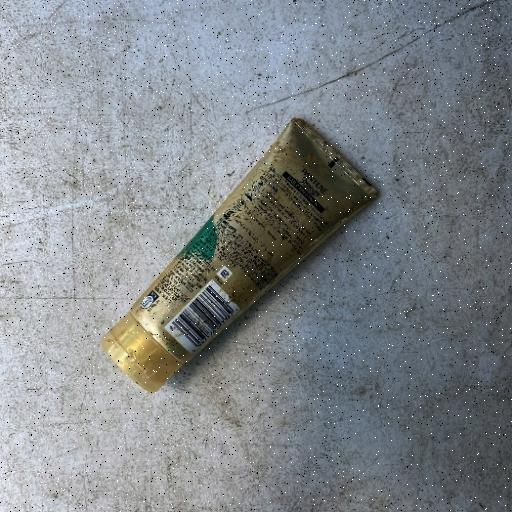Plastic: (98, 115, 380, 395)
